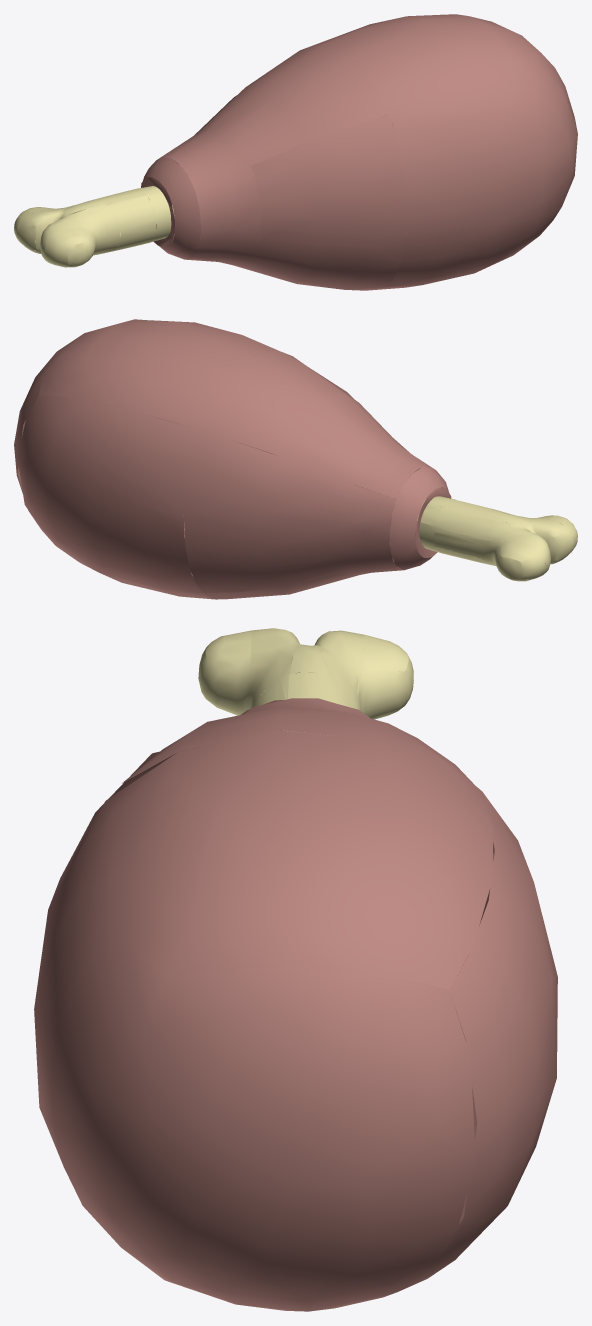
File: Food (13).fbx
The picture shows the model from 3 angles, top to bottom: view 1: azimuth 30°, elevation 25°; view 2: azimuth 150°, elevation 25°; view 3: azimuth 270°, elevation 25°; orthographic projection. The views are drawn at different scales.
Parts seen in each view (by area): view 1: Cube.015; view 2: Cube.015; view 3: Cube.015.
Part boxes in pixels (left/top/right/bottom): Cube.015: left=14, top=14, right=577, bottom=290; Cube.015: left=14, top=319, right=577, bottom=599; Cube.015: left=34, top=628, right=557, bottom=1311.
Bounding box in the file's own units: 13.92 × 6 × 6.
